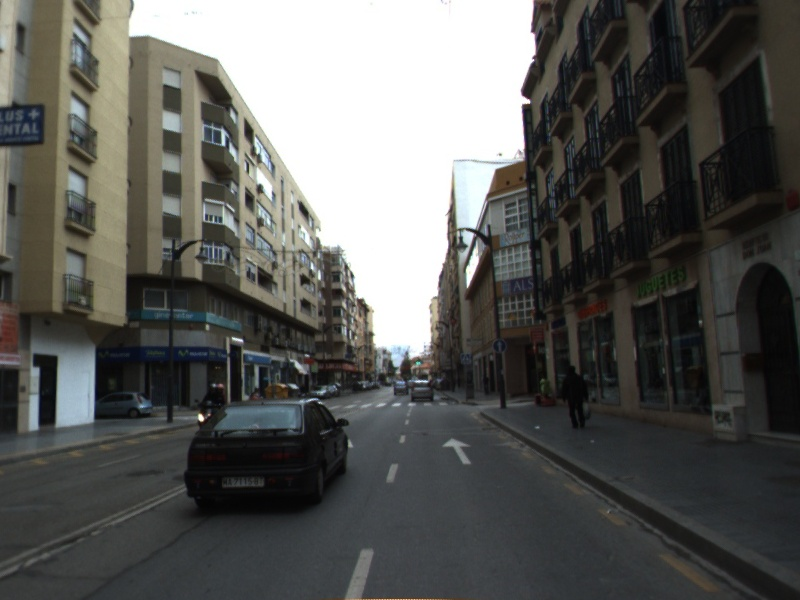STRAIGHT: (440, 436, 474, 466)
